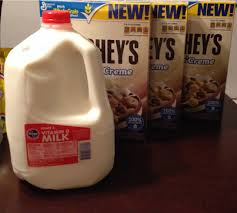milk: (7, 12, 115, 186)
